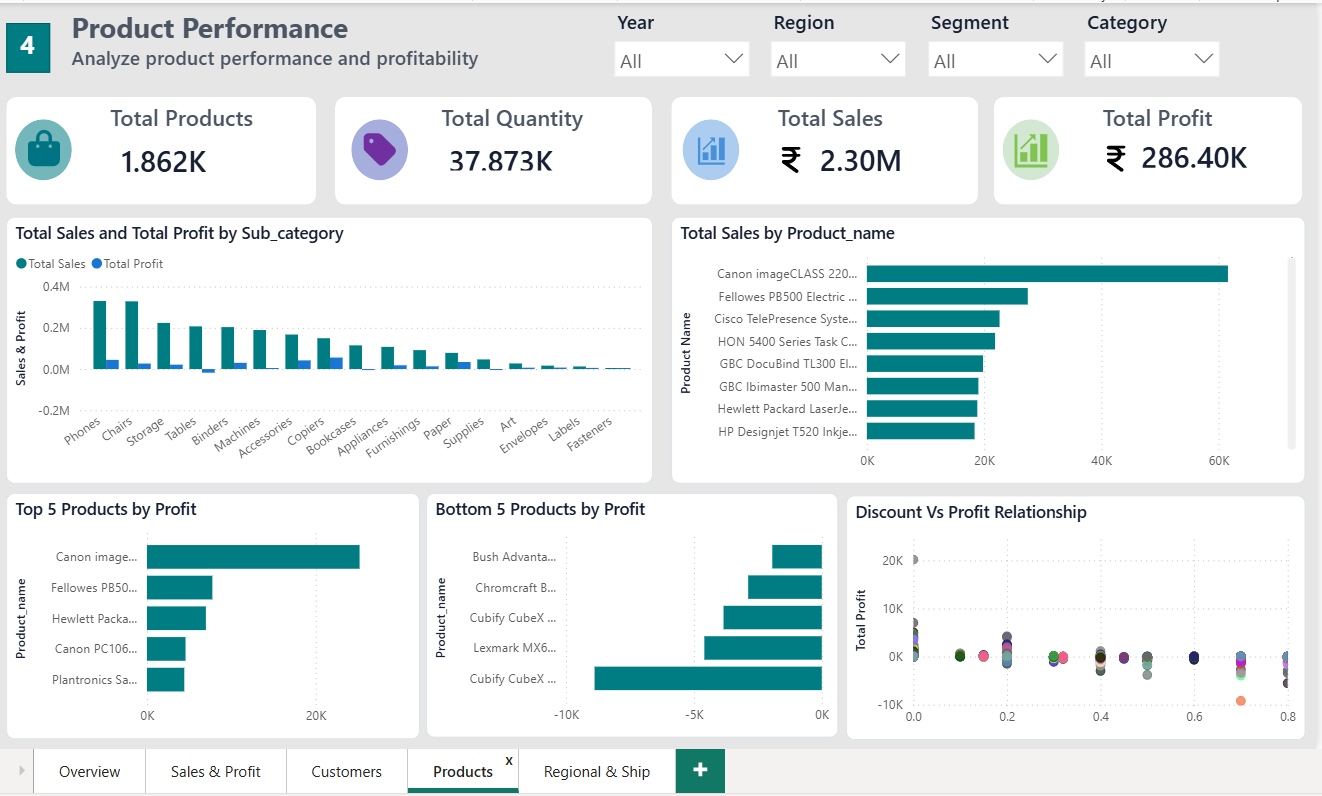

The dashboard page shown, as its layout file describes it:
{"tool":"powerbi","page":{"name":"Products","canvas":[1280,720],"ordinal":3},"visuals":[{"type":"textbox","box":[74.1,0,583.2,86.4],"z":0},{"type":"shape","box":[15.1,19.2,42.5,48],"z":1000},{"type":"textbox","box":[24.7,19.2,49.4,48],"z":2000},{"type":"slicer","fields":{"Values":["Calendar.Year"]},"box":[592.8,0,150.9,78.2],"z":3000},{"type":"slicer","fields":{"Values":["Fact_Sales.Region"]},"box":[743.7,0,150.9,78.2],"z":4000},{"type":"slicer","fields":{"Values":["Fact_Sales.Category"]},"box":[1045.6,0,150.9,78.2],"z":5000},{"type":"slicer","fields":{"Values":["Fact_Sales.Segment"]},"box":[894.7,0,150.9,78.2],"z":6000},{"type":"shape","box":[15.1,90.6,299.1,104.3],"z":7000},{"type":"shape","box":[333.4,90.6,306,104.3],"z":8000},{"type":"shape","box":[968.8,90.6,297.8,104.3],"z":9000},{"type":"shape","box":[657.3,90.6,296.4,104.3],"z":10000},{"type":"shape","box":[24.7,112.5,54.9,59],"z":11000},{"type":"shape","box":[348.5,112.5,54.9,59],"z":12000},{"type":"shape","box":[668.3,112.5,54.9,59],"z":13000},{"type":"cardVisual","fields":{"Data":["Fact_Sales.Total products"]},"box":[97.4,119.4,156.4,61.7],"z":14000},{"type":"textbox","box":[111.1,90.6,157.8,39.8],"z":15000},{"type":"textbox","box":[430.9,90.6,226.4,52.1],"z":16000},{"type":"cardVisual","fields":{"Data":["Fact_Sales.Total Quantity"]},"box":[414.4,122.1,168.8,57.6],"z":17000},{"type":"textbox","box":[754.7,90.6,199,39.8],"z":18000},{"type":"textbox","box":[1069,90.6,197.6,52.1],"z":19000},{"type":"cardVisual","fields":{"Data":["Fact_Sales.Total Sales"]},"box":[772.6,116.6,152.3,64.5],"z":20000},{"type":"cardVisual","fields":{"Data":["Fact_Sales.Total Profit"]},"box":[1082.7,116.6,168.8,59],"z":21000},{"type":"image","box":[754.7,130.4,35.7,42.5],"z":22000},{"type":"image","box":[1069,129,35.7,42.5],"z":23000},{"type":"clusteredColumnChart","fields":{"Category":["Fact_Sales.Sub_category"],"Y":["Fact_Sales.Total Sales","Fact_Sales.Total Profit"]},"box":[15.1,205.8,624.4,258],"z":24000},{"type":"barChart","fields":{"Category":["Fact_Sales.Product_name"],"Y":["Fact_Sales.Total Sales"]},"box":[657.3,205.8,612,258],"z":25000},{"type":"barChart","title":"Top 5 Products by Profit","fields":{"Category":["Fact_Sales.Product_name"],"Y":["Fact_Sales.Total Profit"]},"box":[15.1,473.4,399.3,237.4],"z":26000},{"type":"barChart","title":"Bottom 5 Products by Profit","fields":{"Category":["Fact_Sales.Product_name"],"Y":["Fact_Sales.Total Profit"]},"box":[421.3,473.4,397.9,236],"z":27000},{"type":"scatterChart","title":"Discount Vs Profit Relationship","fields":{"X":["Fact_Sales.Discount"],"Y":["Fact_Sales.Total Profit"],"Series":["Fact_Sales.Product_name"]},"box":[826.1,474.8,443.2,236],"z":28000},{"type":"image","box":[981.1,120.8,46.7,43.9],"z":29000},{"type":"shape","box":[977,112.5,54.9,59],"z":30000},{"type":"image","box":[677.9,116.6,35.7,52.1],"z":31000},{"type":"image","box":[354,119.4,43.9,42.5],"z":32000},{"type":"image","box":[30.2,109.8,43.9,64.5],"z":33000}]}

Visuals, with their boxes on the page's 1280x720 design canvas (x1, y1, x2, y2). These are canvas units, not pixel positions in the 1322x796 screenshot, which may show the page scaled, cropped or inside an application window:
textbox: <bbox>74, 0, 657, 86</bbox>
shape: <bbox>15, 19, 58, 67</bbox>
textbox: <bbox>25, 19, 74, 67</bbox>
slicer - Calendar.Year: <bbox>593, 0, 744, 78</bbox>
slicer - Fact_Sales.Region: <bbox>744, 0, 895, 78</bbox>
slicer - Fact_Sales.Category: <bbox>1046, 0, 1196, 78</bbox>
slicer - Fact_Sales.Segment: <bbox>895, 0, 1046, 78</bbox>
shape: <bbox>15, 91, 314, 195</bbox>
shape: <bbox>333, 91, 639, 195</bbox>
shape: <bbox>969, 91, 1267, 195</bbox>
shape: <bbox>657, 91, 954, 195</bbox>
shape: <bbox>25, 112, 80, 172</bbox>
shape: <bbox>348, 112, 403, 172</bbox>
shape: <bbox>668, 112, 723, 172</bbox>
cardVisual - Fact_Sales.Total products: <bbox>97, 119, 254, 181</bbox>
textbox: <bbox>111, 91, 269, 130</bbox>
textbox: <bbox>431, 91, 657, 143</bbox>
cardVisual - Fact_Sales.Total Quantity: <bbox>414, 122, 583, 180</bbox>
textbox: <bbox>755, 91, 954, 130</bbox>
textbox: <bbox>1069, 91, 1267, 143</bbox>
cardVisual - Fact_Sales.Total Sales: <bbox>773, 117, 925, 181</bbox>
cardVisual - Fact_Sales.Total Profit: <bbox>1083, 117, 1252, 176</bbox>
image: <bbox>755, 130, 790, 173</bbox>
image: <bbox>1069, 129, 1105, 172</bbox>
clusteredColumnChart - Fact_Sales.Sub_category x Fact_Sales.Total Sales: <bbox>15, 206, 640, 464</bbox>
barChart - Fact_Sales.Product_name x Fact_Sales.Total Sales: <bbox>657, 206, 1269, 464</bbox>
"Top 5 Products by Profit" barChart: <bbox>15, 473, 414, 711</bbox>
"Bottom 5 Products by Profit" barChart: <bbox>421, 473, 819, 709</bbox>
"Discount Vs Profit Relationship" scatterChart: <bbox>826, 475, 1269, 711</bbox>
image: <bbox>981, 121, 1028, 165</bbox>
shape: <bbox>977, 112, 1032, 172</bbox>
image: <bbox>678, 117, 714, 169</bbox>
image: <bbox>354, 119, 398, 162</bbox>
image: <bbox>30, 110, 74, 174</bbox>
